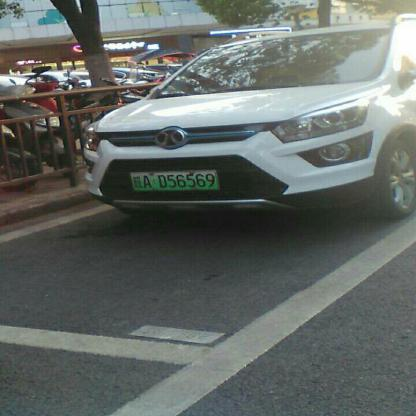lp: (128, 169, 218, 190)
